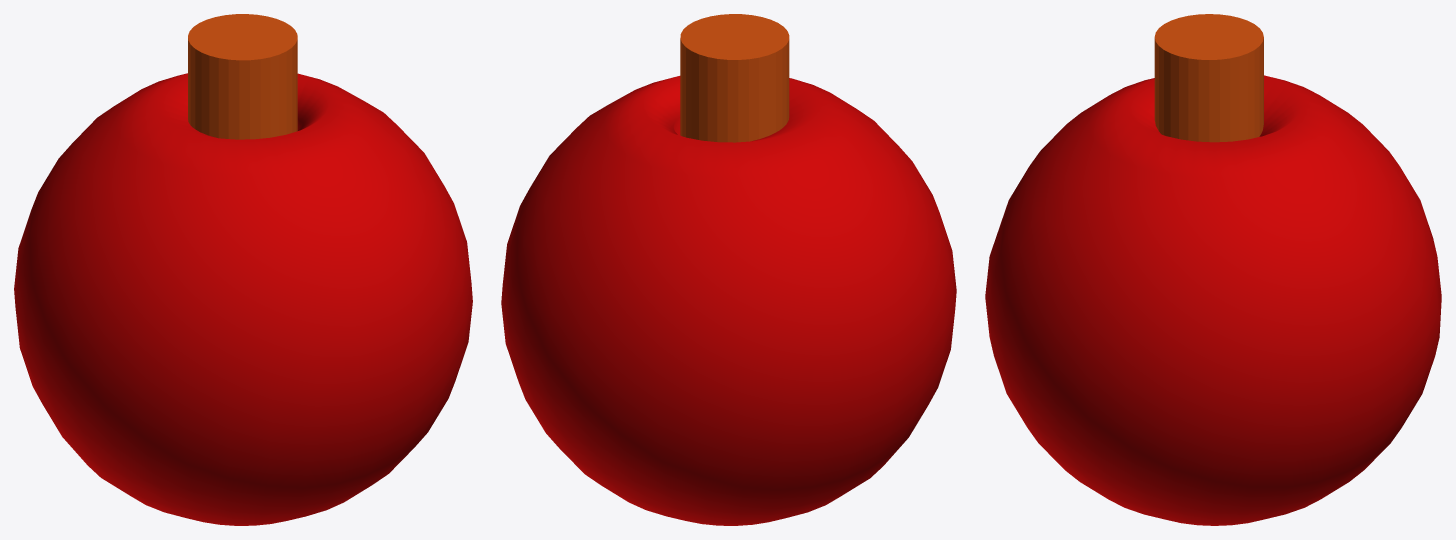
Rendered from appleV2.obj.
3 renders of one model, left to right at view 1: azimuth 30°, elevation 25°; view 2: azimuth 150°, elevation 25°; view 3: azimuth 270°, elevation 25°, orthographic.
Visible parts, largest first — view 1: Sphere, Cylinder; view 2: Sphere, Cylinder; view 3: Sphere, Cylinder.
Part boxes in pixels (x1,y1,x2,y2): Sphere: [14, 73, 472, 525]; Cylinder: [188, 14, 297, 139]; Sphere: [501, 76, 956, 525]; Cylinder: [680, 14, 789, 142]; Sphere: [985, 75, 1441, 525]; Cylinder: [1154, 14, 1263, 142].
Size of the model in its own units: 1.99 by 2.22 by 1.99.
